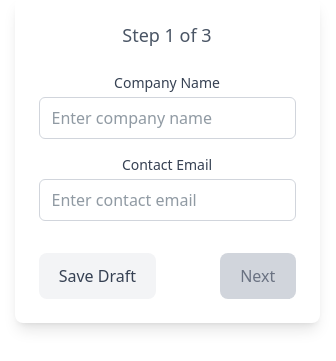
Feature: Maritime Insurance Quote Request Wizard Step 1 Component › Scenario: Email validation on Step 1 › should show error for invalid email format
The image size is (336, 361).
When (Act)
Type "invalid.email" into the field with test id "contact-email" at (167, 200), box [38, 179, 296, 221]
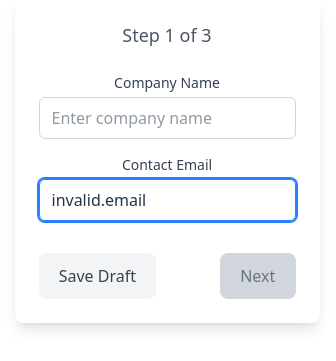
Press Tab
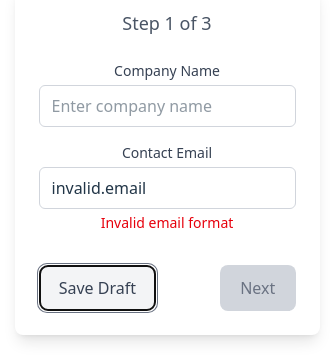
Expected: the button with test id "next-button" is disabled, [220, 265, 296, 311]
Result: the message "Invalid email format" is shown at [101, 213, 233, 232]
